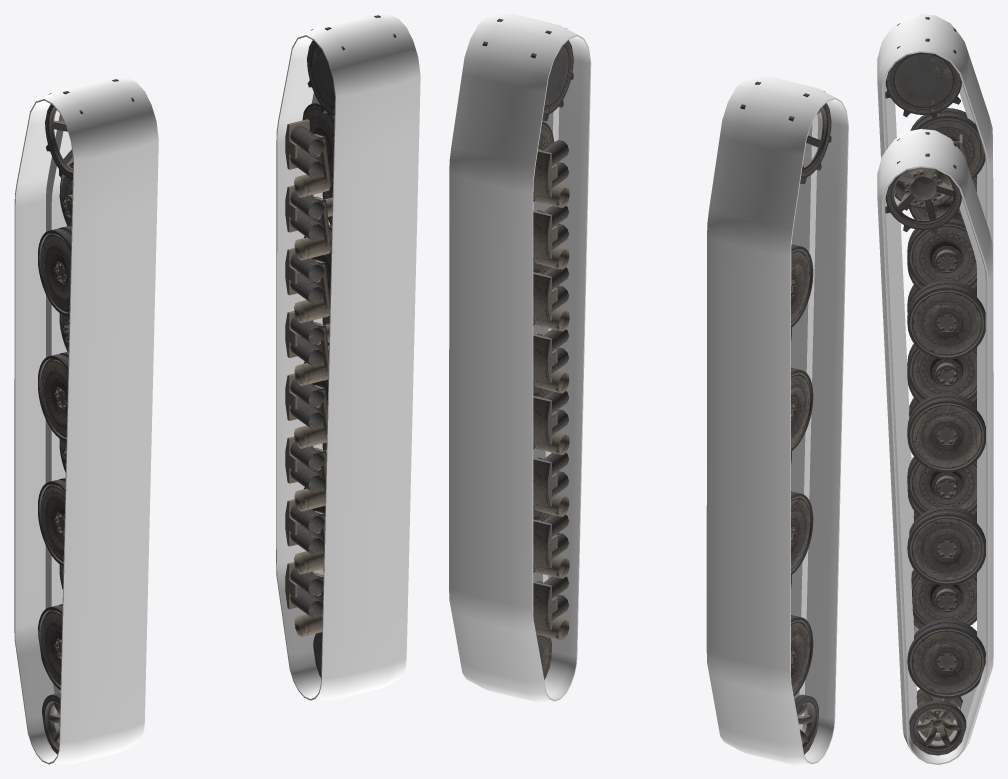
Rendered from Chassis.glb.
3 views of the same model, side by side, from view 1: azimuth 30°, elevation 25°; view 2: azimuth 150°, elevation 25°; view 3: azimuth 270°, elevation 25° (orthographic). The views are drawn at different scales.
Visible parts, largest first — view 1: set_1_group_0, set_0_group_0, set_2_group_0, set_3_group_0; view 2: set_1_group_0, set_0_group_0, set_2_group_0, set_3_group_0; view 3: set_2_group_0, set_0_group_0, set_1_group_0, set_3_group_0.
Boxes of the visible parts, bbox=[...] form: set_1_group_0: bbox=[14, 78, 158, 764]; set_0_group_0: bbox=[276, 14, 420, 700]; set_2_group_0: bbox=[285, 15, 396, 677]; set_3_group_0: bbox=[38, 79, 134, 754]; set_1_group_0: bbox=[706, 77, 848, 764]; set_0_group_0: bbox=[449, 14, 591, 701]; set_2_group_0: bbox=[482, 18, 573, 679]; set_3_group_0: bbox=[740, 81, 831, 754]; set_2_group_0: bbox=[885, 132, 985, 755]; set_0_group_0: bbox=[877, 129, 993, 764]; set_1_group_0: bbox=[877, 14, 993, 634]; set_3_group_0: bbox=[885, 17, 985, 629].
Bounding box in the file's own units: 4.09 × 7.62 × 1.33.
4 materials, 2 textured.
